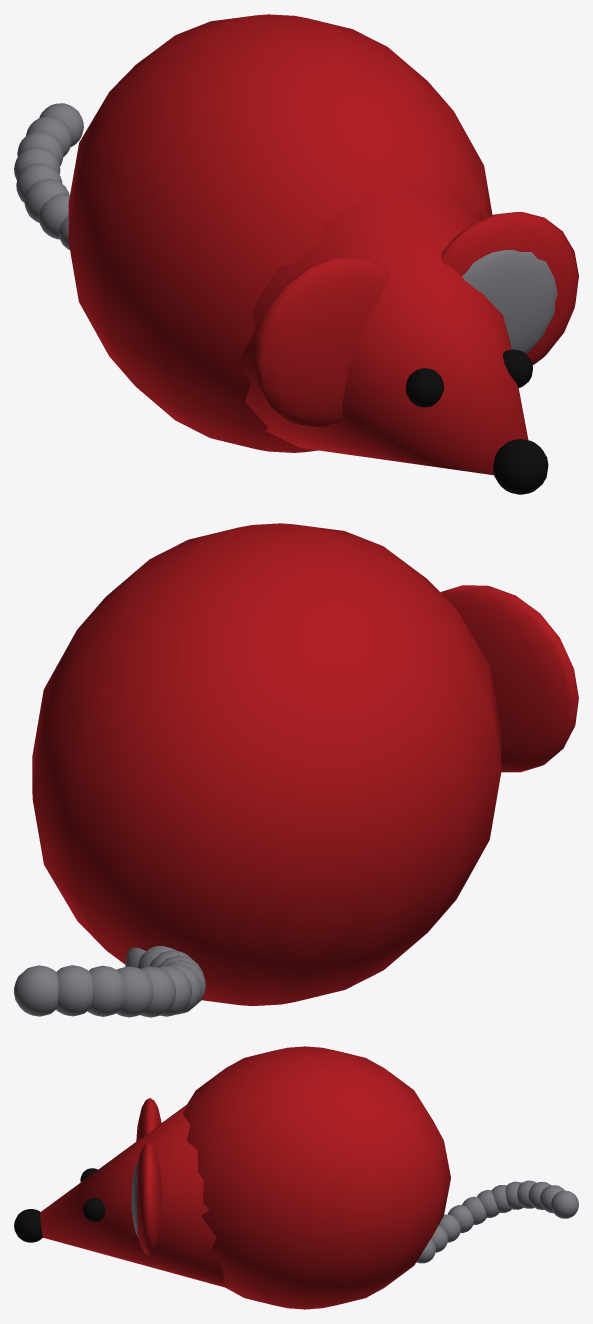
The model's file is mouse.glb.
The picture shows the model from 3 angles, top to bottom: view 1: azimuth 30°, elevation 25°; view 2: azimuth 150°, elevation 25°; view 3: azimuth 270°, elevation 25°; orthographic projection. The views are drawn at different scales.
Parts seen in each view (by area): view 1: mouse, mouse.001, mouse.006, mouse.008, mouse.009, mouse.002, mouse.003, mouse.015, mouse.016, mouse.021, mouse.017, mouse.004 (+3 smaller); view 2: mouse, mouse.006, mouse.021, mouse.020, mouse.019, mouse.018, mouse.017, mouse.016; view 3: mouse, mouse.001, mouse.008, mouse.002, mouse.006, mouse.021, mouse.004, mouse.013, mouse.014, mouse.012, mouse.015, mouse.009 (+5 smaller).
Boxes of the visible parts, x1=… form: mouse: x1=68, y1=14, x2=492, y2=452; mouse.001: x1=237, y1=185, x2=528, y2=475; mouse.006: x1=253, y1=257, x2=389, y2=427; mouse.008: x1=441, y1=212, x2=578, y2=364; mouse.009: x1=462, y1=249, x2=557, y2=353; mouse.002: x1=493, y1=439, x2=548, y2=494; mouse.003: x1=405, y1=368, x2=443, y2=407; mouse.015: x1=38, y1=193, x2=69, y2=239; mouse.016: x1=24, y1=178, x2=69, y2=222; mouse.021: x1=39, y1=103, x2=83, y2=147; mouse.017: x1=16, y1=163, x2=62, y2=202; mouse.004: x1=503, y1=349, x2=532, y2=387; mouse: x1=32, y1=523, x2=501, y2=1006; mouse.006: x1=440, y1=585, x2=578, y2=772; mouse.021: x1=14, y1=965, x2=58, y2=1016; mouse.020: x1=56, y1=965, x2=93, y2=1016; mouse.019: x1=87, y1=965, x2=125, y2=1016; mouse.018: x1=116, y1=966, x2=153, y2=1017; mouse.017: x1=140, y1=966, x2=176, y2=1017; mouse.016: x1=158, y1=965, x2=191, y2=1016; mouse: x1=182, y1=1046, x2=450, y2=1309; mouse.001: x1=40, y1=1105, x2=228, y2=1287; mouse.008: x1=137, y1=1143, x2=161, y2=1254; mouse.002: x1=14, y1=1209, x2=42, y2=1242; mouse.006: x1=136, y1=1098, x2=161, y2=1141; mouse.021: x1=551, y1=1190, x2=578, y2=1218; mouse.004: x1=83, y1=1198, x2=105, y2=1221; mouse.013: x1=447, y1=1205, x2=473, y2=1233; mouse.014: x1=462, y1=1196, x2=486, y2=1224; mouse.012: x1=439, y1=1214, x2=460, y2=1242; mouse.015: x1=477, y1=1190, x2=499, y2=1217; mouse.009: x1=131, y1=1160, x2=138, y2=1237.
Bounding box in the file's own units: 0.2 × 0.21 × 0.4447.
